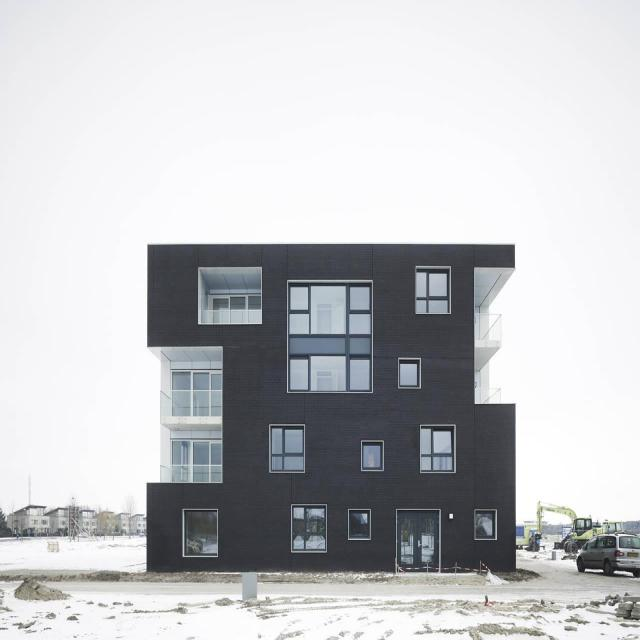door: (396, 510, 440, 571)
railing: (160, 389, 223, 416), (161, 465, 225, 483), (201, 310, 262, 324), (475, 314, 501, 343), (474, 389, 502, 406)
window: (288, 283, 372, 333), (289, 358, 372, 391), (173, 370, 223, 415), (173, 439, 223, 480), (270, 426, 305, 471), (415, 268, 449, 314), (184, 507, 216, 555), (291, 505, 325, 550), (421, 427, 456, 470), (208, 294, 257, 309), (475, 511, 499, 540), (348, 510, 369, 538), (362, 441, 383, 468), (399, 360, 419, 388)
